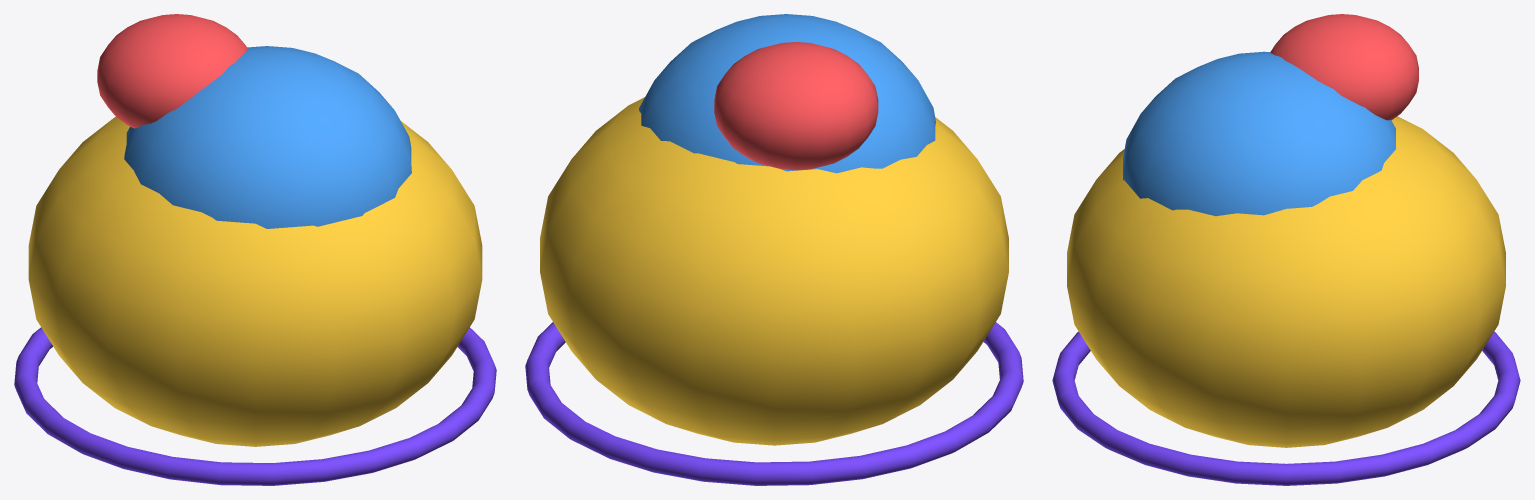
File: table_fun_0.glb
3 views of the same model, side by side, from view 1: azimuth 30°, elevation 25°; view 2: azimuth 150°, elevation 25°; view 3: azimuth 270°, elevation 25° (orthographic). The views are drawn at different scales.
Size of the model in its own units: 0.84 by 0.74 by 0.84.
